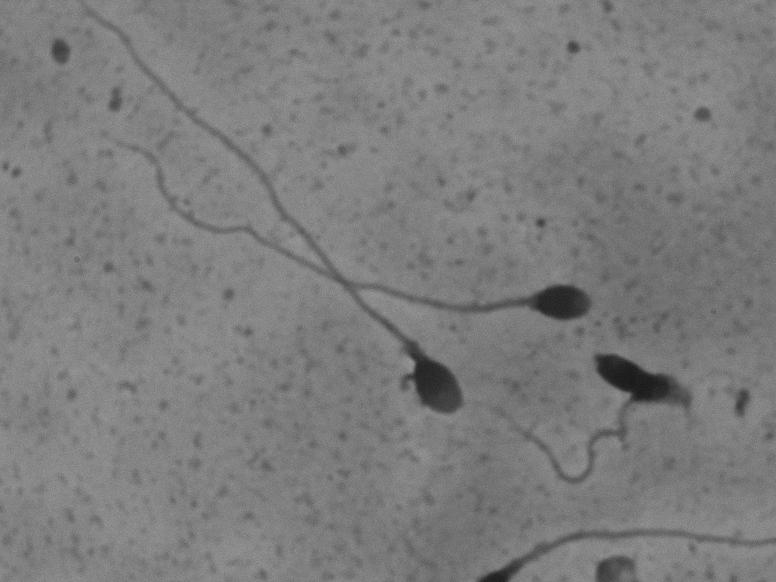Abnormal: (496, 343, 724, 493)
Normal: (86, 11, 478, 442), (87, 128, 609, 328)
